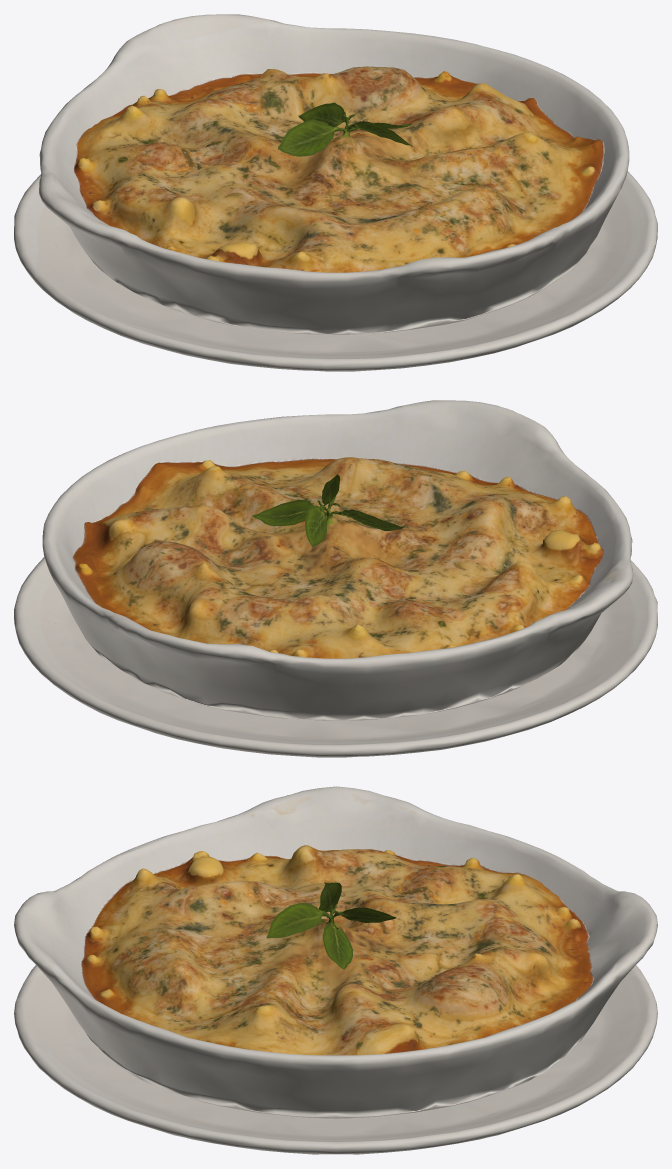
The model's file is ravioli_romana.fbx.
3 renders of one model, top to bottom at view 1: azimuth 30°, elevation 25°; view 2: azimuth 150°, elevation 25°; view 3: azimuth 270°, elevation 25°, orthographic.
Visible parts, largest first — view 1: meshes[0]; view 2: meshes[0]; view 3: meshes[0].
Boxes of the visible parts, x1=… form: meshes[0]: x1=14, y1=14, x2=657, y2=371; meshes[0]: x1=14, y1=400, x2=657, y2=757; meshes[0]: x1=14, y1=786, x2=657, y2=1154.
Bounding box in the file's own units: 99.8 × 23.63 × 99.8.
1 material, 1 textured.
